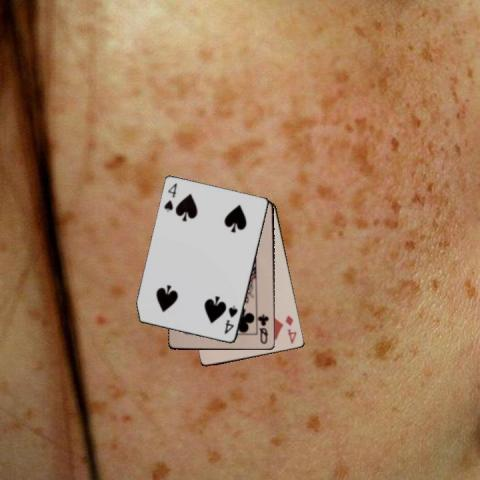4d: (283, 312, 298, 345)
4s: (161, 180, 179, 214), (222, 303, 240, 335)
Qc: (256, 312, 270, 346)
